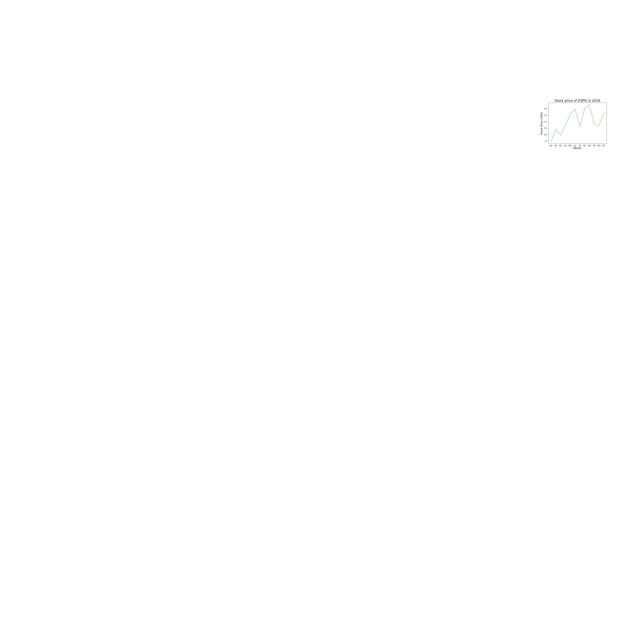Graph: (539, 95, 614, 151)
